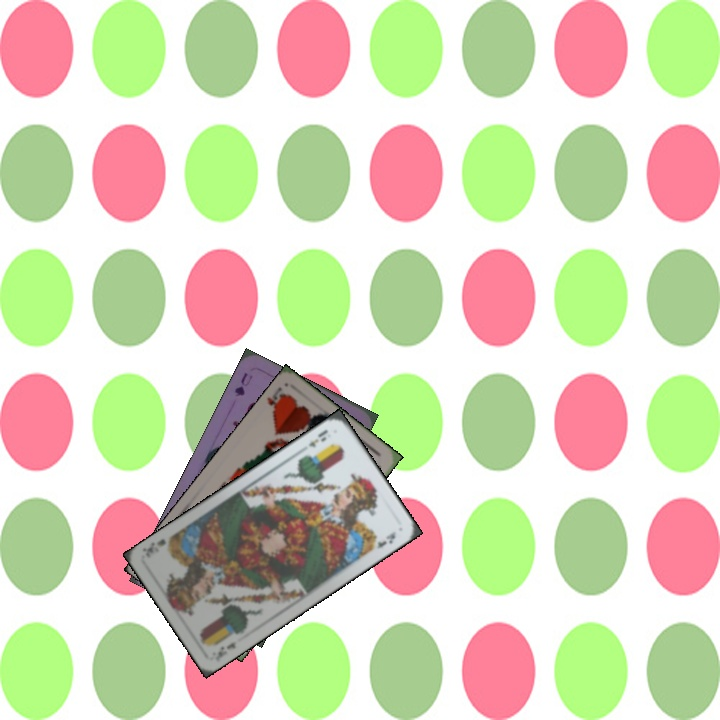EK: (211, 637, 238, 664), (304, 425, 331, 450)
GU: (230, 368, 255, 400)
HO: (263, 383, 291, 416)
